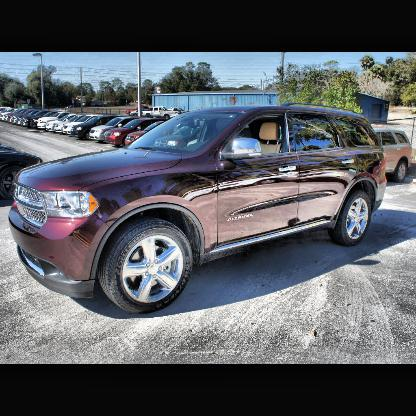Dodge Durango SUV 2012: (8, 103, 388, 316)
